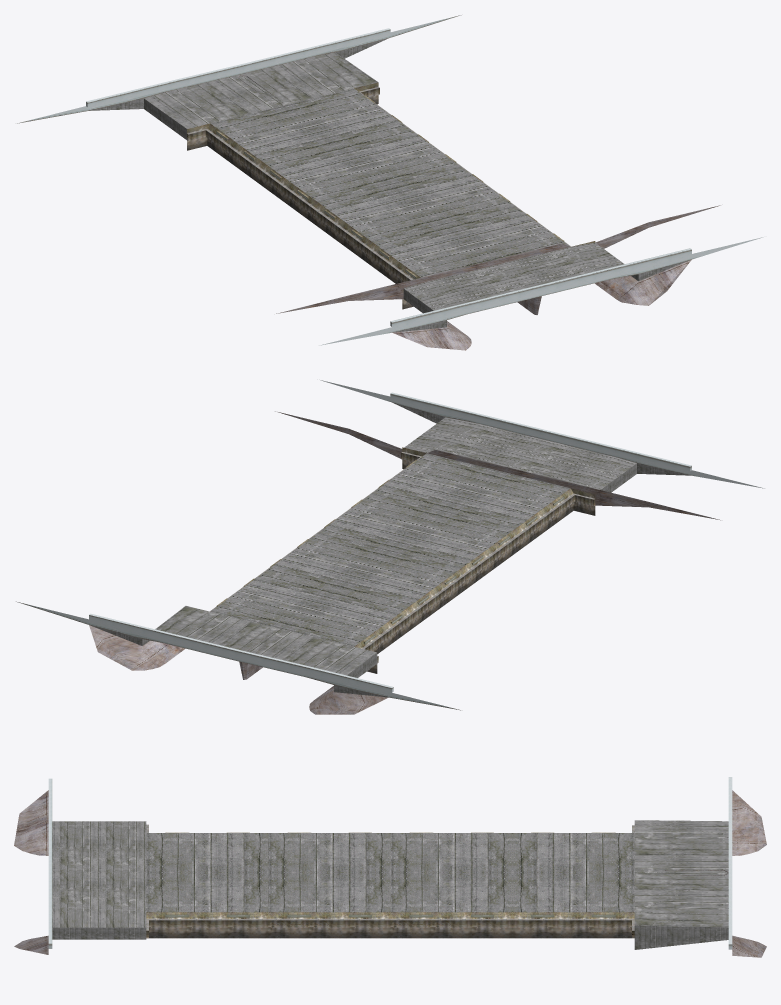
File: tunelis.obj
The picture shows the model from 3 angles, top to bottom: view 1: azimuth 30°, elevation 25°; view 2: azimuth 150°, elevation 25°; view 3: azimuth 270°, elevation 25°; orthographic projection. The views are drawn at different scales.
Visible parts, largest first — view 1: vegasNroad31; view 2: vegasNroad31; view 3: vegasNroad31.
Boxes of the visible parts, left/top/right/bottom form: vegasNroad31: left=17, top=15, right=763, bottom=350; vegasNroad31: left=16, top=380, right=764, bottom=714; vegasNroad31: left=14, top=777, right=766, bottom=957.
Bounding box in the file's own units: 120 × 8.28 × 154.
